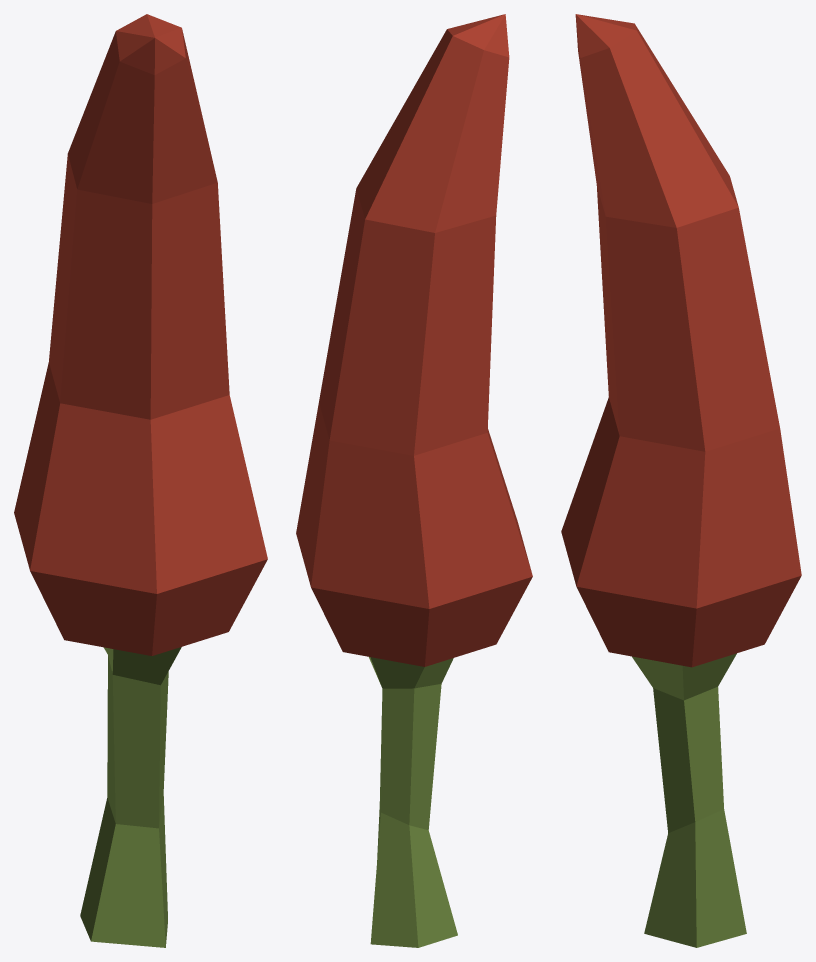
The model's file is SM_Prop_Chilli_01_L.glb.
The picture shows the model from 3 angles, left to right: view 1: azimuth 30°, elevation 25°; view 2: azimuth 150°, elevation 25°; view 3: azimuth 270°, elevation 25°; orthographic projection. The views are drawn at different scales.
Visible parts, largest first — view 1: SM_Prop_Chilli_01_L; view 2: SM_Prop_Chilli_01_L; view 3: SM_Prop_Chilli_01_L.
Boxes of the visible parts, box(x1,y1,x2,y2) form: SM_Prop_Chilli_01_L: box(14, 14, 267, 947); SM_Prop_Chilli_01_L: box(296, 14, 532, 947); SM_Prop_Chilli_01_L: box(561, 14, 801, 947).
Size of the model in its own units: 0.065 by 0.251 by 0.0601.
Materials: 1 (1 with a texture image).
